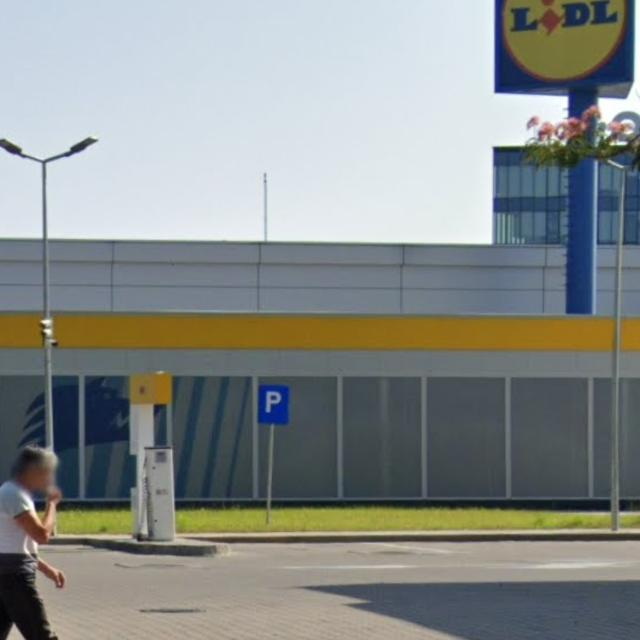info_parking: (258, 384, 290, 424)
